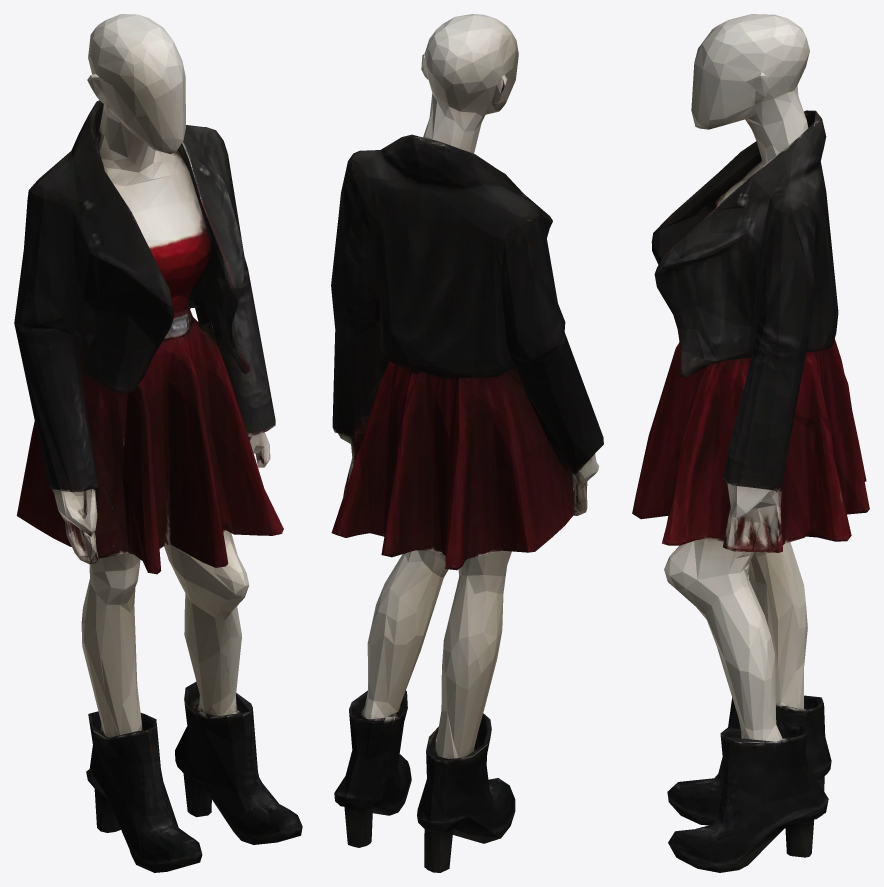
File: dress_redblack_mannequin.glb
3 renders of one model, left to right at view 1: azimuth 30°, elevation 25°; view 2: azimuth 150°, elevation 25°; view 3: azimuth 270°, elevation 25°, orthographic. The views are drawn at different scales.
Parts seen in each view (by area): view 1: geometry_0; view 2: geometry_0; view 3: geometry_0.
Part boxes in pixels (left/top/right/bottom): geometry_0: left=14, top=14, right=302, bottom=872; geometry_0: left=331, top=14, right=603, bottom=872; geometry_0: left=632, top=14, right=869, bottom=872.
Bounding box in the file's own units: 0.3025 × 0.9991 × 0.2715.
1 material, 1 textured.
